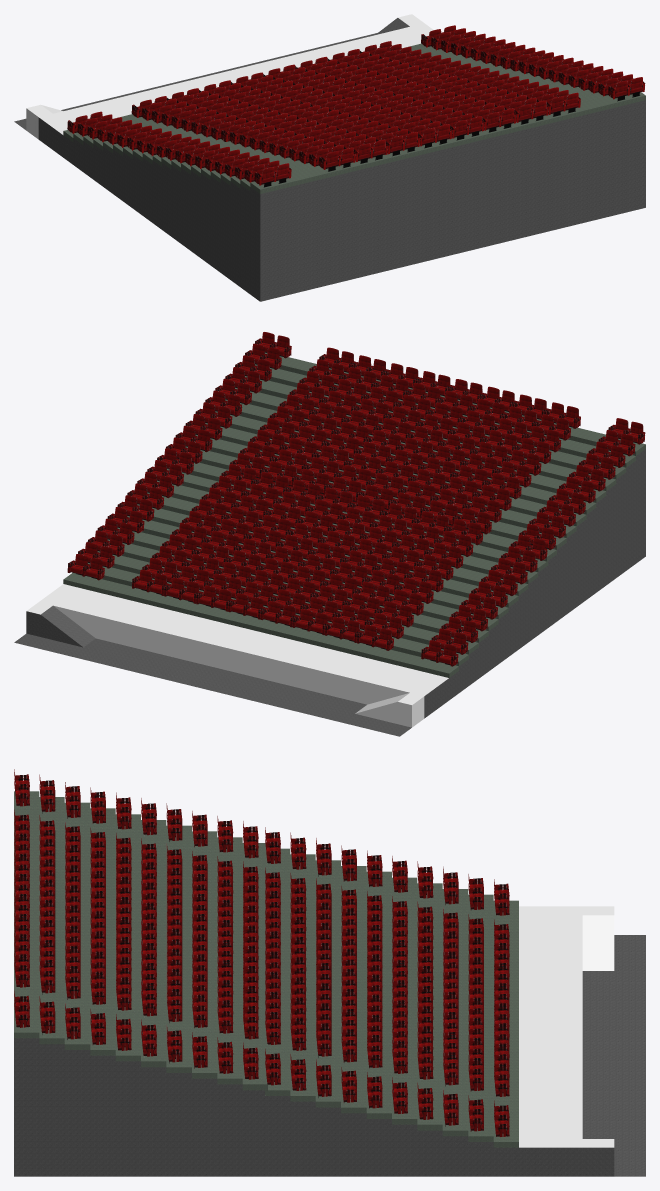
3 views of the same model, one above another, from view 1: azimuth 30°, elevation 25°; view 2: azimuth 150°, elevation 25°; view 3: azimuth 270°, elevation 25° (orthographic). The views are drawn at different scales.
Parts seen in each view (by area): view 1: Model, Group111, Group113, Group115, Group112, Group120, Group116, Group118, Group114, Group117, Group119, Group121; view 2: Model, Group1, Group12, Group122, Group78, Group210, Group56, Group177, Group34, Group67, Group166, Group188 (+19 smaller); view 3: Model, Group23, Group210, Group177, Group45, Group133, Group111, Group67, Group155, Group1, Group56, Group188 (+9 smaller).
Boxes of the visible parts, x1,y1,x2,y2 form: Model: (14, 14, 645, 301); Group111: (250, 92, 645, 193); Group113: (254, 163, 291, 187); Group115: (318, 147, 355, 171); Group112: (608, 77, 645, 101); Group120: (482, 108, 516, 132); Group116: (514, 100, 548, 124); Group118: (546, 92, 580, 116); Group114: (353, 139, 387, 163); Group117: (450, 116, 484, 140); Group119: (385, 132, 420, 156); Group121: (418, 124, 452, 148); Model: (14, 449, 645, 736); Group1: (63, 573, 458, 677); Group12: (88, 563, 468, 666); Group122: (185, 446, 566, 549); Group78: (137, 504, 518, 607); Group210: (245, 376, 626, 479); Group56: (127, 516, 508, 619); Group177: (195, 435, 576, 537); Group34: (107, 539, 488, 642); Group67: (147, 492, 528, 595); Group166: (255, 364, 635, 467); Group188: (205, 423, 586, 526); Model: (14, 906, 645, 1176); Group23: (442, 889, 468, 1136); Group210: (64, 802, 90, 1049); Group177: (192, 831, 217, 1078); Group45: (392, 877, 417, 1124); Group133: (141, 820, 166, 1067); Group111: (14, 791, 39, 1038); Group67: (315, 860, 340, 1107); Group155: (115, 814, 140, 1061); Group1: (493, 900, 518, 1147); Group56: (366, 871, 391, 1118); Group188: (166, 825, 191, 1072).
Size of the model in its own units: 27 by 8.84 by 29.86.
Materials: 5 (4 with a texture image).
